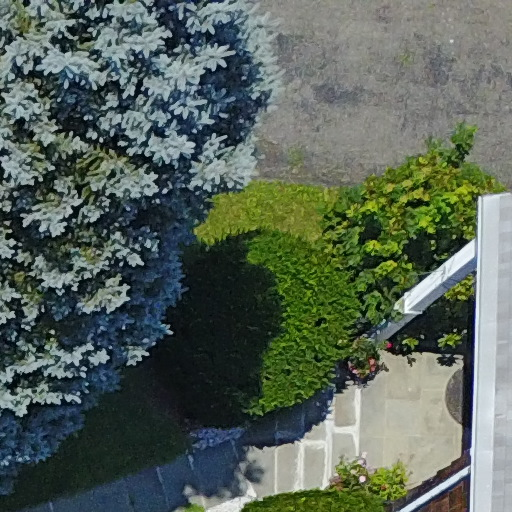flower pot: (347, 333, 384, 381)
